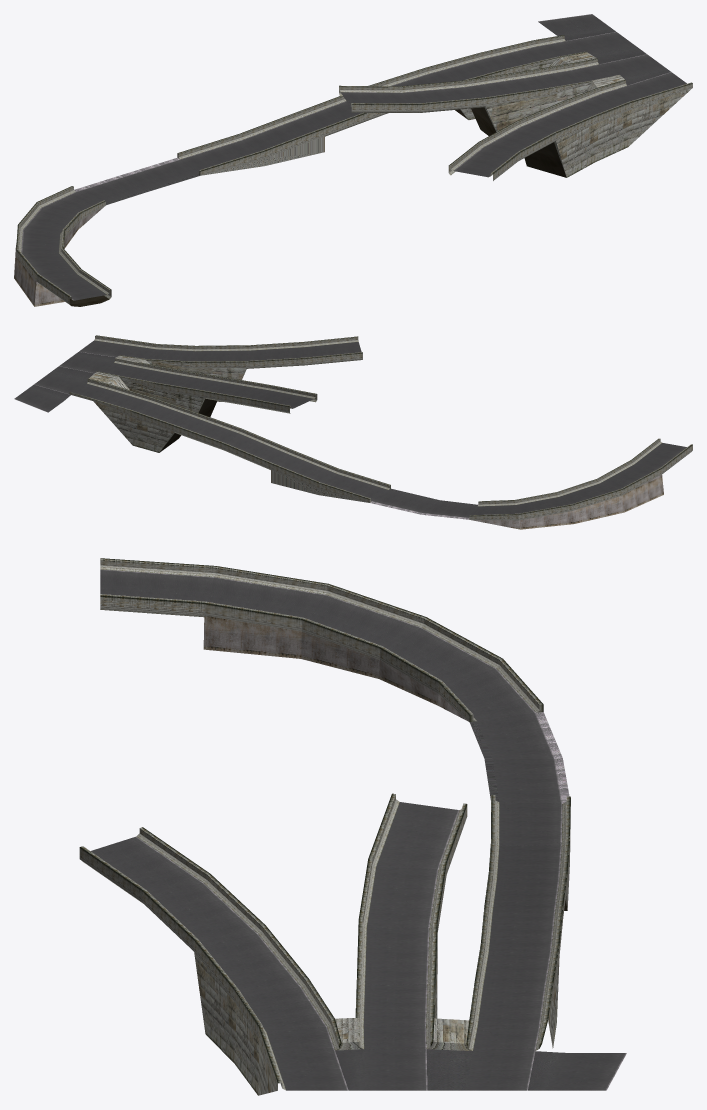
Rendered from roadssfse05.obj.
3 views of the same model, one above another, from view 1: azimuth 30°, elevation 25°; view 2: azimuth 150°, elevation 25°; view 3: azimuth 270°, elevation 25° (orthographic). The views are drawn at different scales.
Parts seen in each view (by area): view 1: roadsSFSE05; view 2: roadsSFSE05; view 3: roadsSFSE05.
Part boxes in pixels (x1=…): roadsSFSE05: x1=14, y1=14, x2=692, y2=306; roadsSFSE05: x1=14, y1=335, x2=692, y2=529; roadsSFSE05: x1=79, y1=558, x2=626, y2=1095.
Bounding box in the file's own units: 180 × 18.49 × 77.43.
4 materials, 4 textured.
